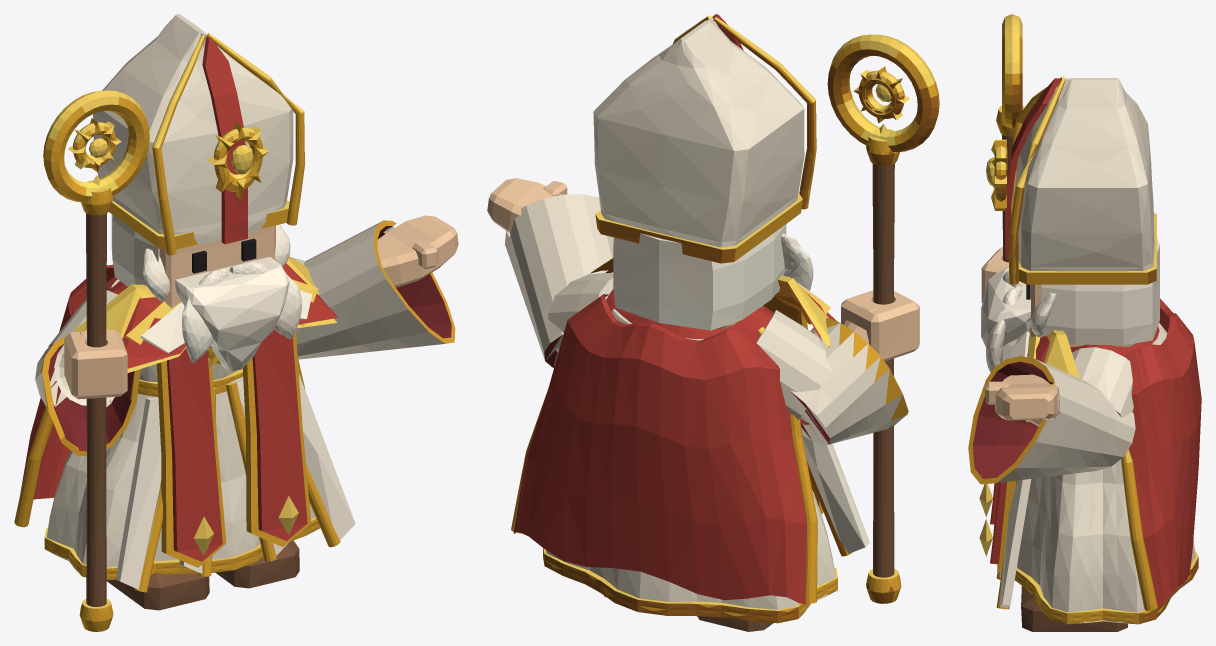
File: archbishop.glb
3 views of the same model, side by side, from view 1: azimuth 30°, elevation 25°; view 2: azimuth 150°, elevation 25°; view 3: azimuth 270°, elevation 25° (orthographic). The views are drawn at different scales.
Parts seen in each view (by area): view 1: Headwear — actual tapered source faceted pointed mitre, Clothing — left V7 continuous outer source shoulder elbow cu, Clothing — continuous connected deeply pleated source robe, Hair — broad three-dimensional white source beard, Clothing — right rich red folded stole field, Clothing — left rich red folded stole field, Weapon — source straight coaxial staff shaft, Weapon — curved thick open-ring gold crozier, Clothing — right V7 continuous outer source shoulder elbow c, Clothing — right broad flowing ivory skirt panel 2, Hand — left connected broad source outward blessing palm, Headwear — source curved red mitre front order stripe (+28 smaller); view 2: Clothing — broad connected red Archbishop rear mantle drape, Headwear — actual tapered source faceted pointed mitre, Clothing — right V7 continuous outer source shoulder elbow c, Hair — source fitted closed white temple and nape wrap, Clothing — left V7 continuous outer source shoulder elbow cu, Weapon — curved thick open-ring gold crozier, Weapon — source straight coaxial staff shaft, Clothing — sculpted gold skirt hem, Clothing — continuous connected deeply pleated source robe, Hand — right stronger compact source grasp continuous with a, Clothing — right broad flowing ivory skirt panel 2, Headwear — true closed source gold mitre seating band (+8 smaller); view 3: Headwear — actual tapered source faceted pointed mitre, Clothing — broad connected red Archbishop rear mantle drape, Clothing — left V7 continuous outer source shoulder elbow cu, Clothing — continuous connected deeply pleated source robe, Hair — source fitted closed white temple and nape wrap, Hair — broad three-dimensional white source beard, Hand — left connected broad source outward blessing palm, Clothing — sculpted gold skirt hem, Weapon — curved thick open-ring gold crozier, Headwear — true closed source gold mitre seating band, Clothing — left flowing rear mantle gold hem, Clothing — left broad flowing ivory skirt panel 2 (+13 smaller).
Boxes of the visible parts, bbox=[...] form: Headwear — actual tapered source faceted pointed mitre: bbox=[93, 14, 293, 244]; Clothing — left V7 continuous outer source shoulder elbow cu: bbox=[291, 220, 455, 359]; Clothing — continuous connected deeply pleated source robe: bbox=[46, 279, 315, 570]; Hair — broad three-dimensional white source beard: bbox=[175, 257, 301, 371]; Clothing — right rich red folded stole field: bbox=[167, 348, 222, 561]; Clothing — left rich red folded stole field: bbox=[252, 329, 307, 540]; Weapon — source straight coaxial staff shaft: bbox=[86, 213, 106, 606]; Weapon — curved thick open-ring gold crozier: bbox=[43, 90, 149, 202]; Clothing — right V7 continuous outer source shoulder elbow c: bbox=[35, 290, 147, 455]; Clothing — right broad flowing ivory skirt panel 2: bbox=[116, 397, 161, 589]; Hand — left connected broad source outward blessing palm: bbox=[377, 215, 458, 287]; Headwear — source curved red mitre front order stripe: bbox=[202, 36, 247, 244]; Clothing — broad connected red Archbishop rear mantle drape: bbox=[513, 294, 806, 604]; Headwear — actual tapered source faceted pointed mitre: bbox=[593, 17, 804, 247]; Clothing — right V7 continuous outer source shoulder elbow c: bbox=[756, 310, 908, 445]; Hair — source fitted closed white temple and nape wrap: bbox=[613, 224, 786, 330]; Clothing — left V7 continuous outer source shoulder elbow cu: bbox=[505, 194, 613, 367]; Weapon — curved thick open-ring gold crozier: bbox=[827, 34, 939, 151]; Weapon — source straight coaxial staff shaft: bbox=[872, 163, 894, 577]; Clothing — sculpted gold skirt hem: bbox=[543, 548, 837, 623]; Clothing — continuous connected deeply pleated source robe: bbox=[546, 306, 835, 612]; Hand — right stronger compact source grasp continuous with a: bbox=[841, 290, 919, 361]; Clothing — right broad flowing ivory skirt panel 2: bbox=[802, 435, 869, 553]; Headwear — true closed source gold mitre seating band: bbox=[595, 193, 802, 263]; Headwear — actual tapered source faceted pointed mitre: bbox=[1013, 78, 1154, 271]; Clothing — broad connected red Archbishop rear mantle drape: bbox=[1124, 298, 1201, 607]; Clothing — left V7 continuous outer source shoulder elbow cu: bbox=[968, 347, 1135, 484]; Clothing — continuous connected deeply pleated source robe: bbox=[1017, 323, 1195, 623]; Hair — source fitted closed white temple and nape wrap: bbox=[1041, 237, 1159, 345]; Hair — broad three-dimensional white source beard: bbox=[981, 268, 1030, 372]; Hand — left connected broad source outward blessing palm: bbox=[985, 374, 1057, 420]; Clothing — sculpted gold skirt hem: bbox=[1014, 550, 1198, 624]; Weapon — curved thick open-ring gold crozier: bbox=[1002, 14, 1022, 128]; Headwear — true closed source gold mitre seating band: bbox=[1018, 213, 1156, 284]; Clothing — left flowing rear mantle gold hem: bbox=[1121, 449, 1157, 610]; Clothing — left broad flowing ivory skirt panel 2: bbox=[999, 479, 1031, 608].
Bounding box in the file's own units: 0.9258 × 1.17 × 0.4757.
